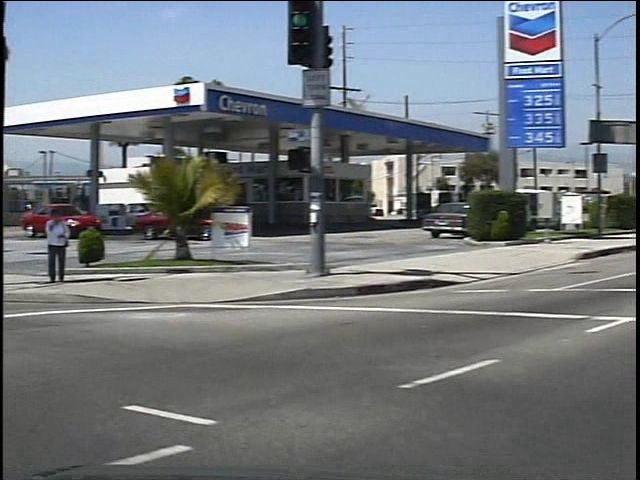person: (34, 203, 65, 289)
